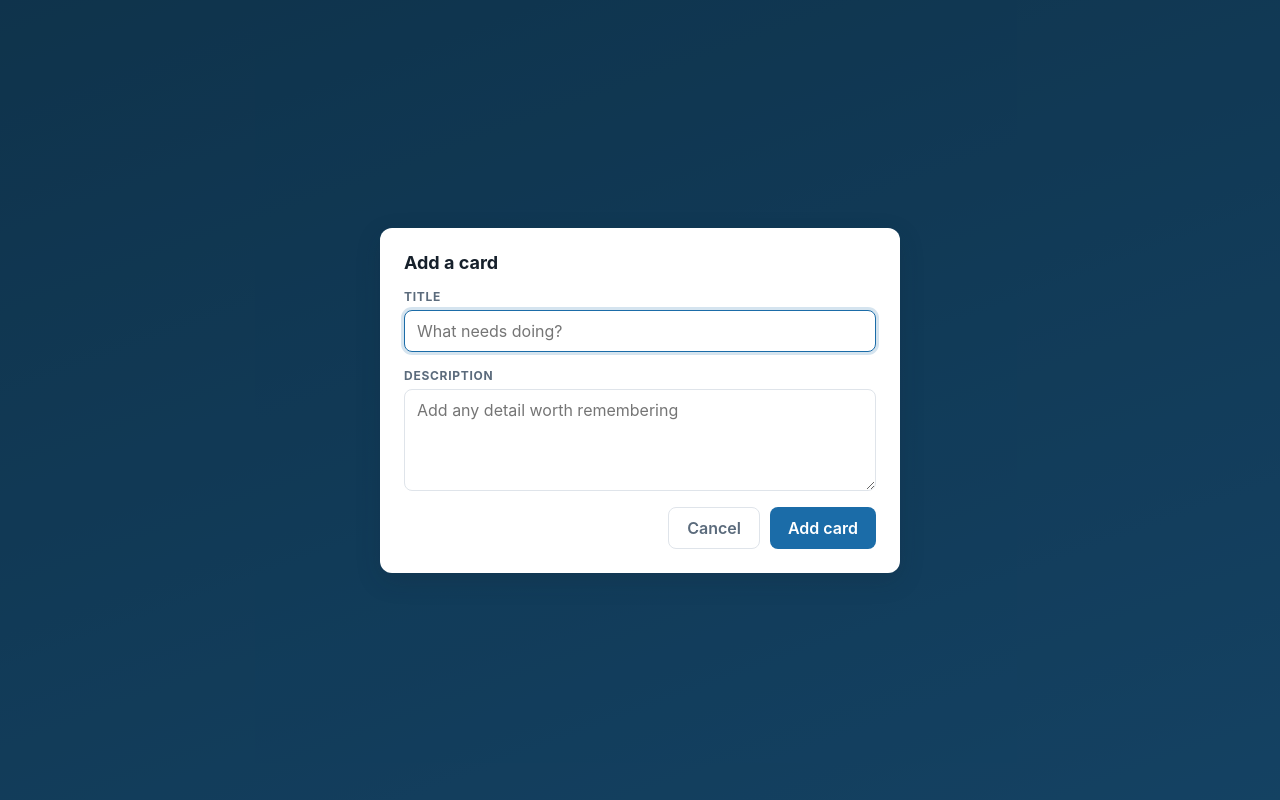
Scenario: TicketFormModal › refuses to submit without a title
What coordinates should you click on to do the following:
click the button "Add card"
I would click on:
 (823, 528)
Its box is [770,506,876,548].
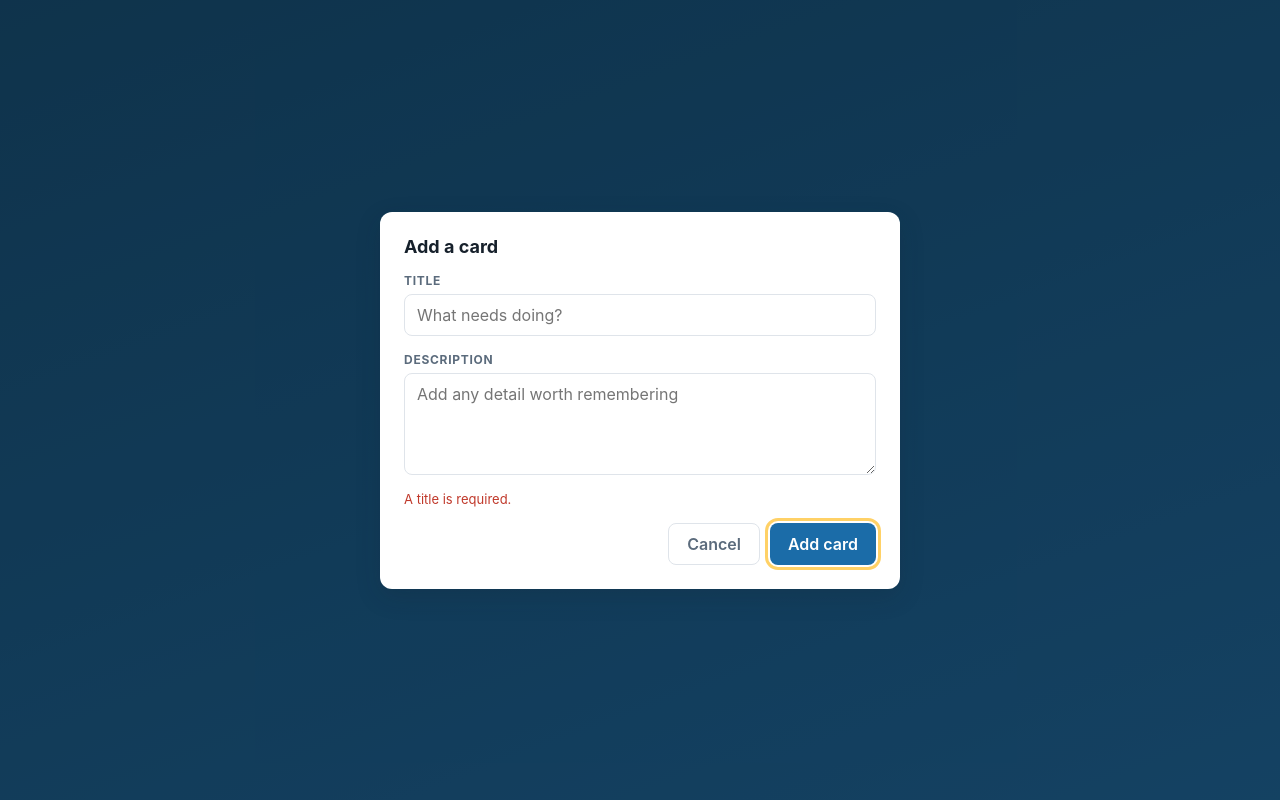
Expected: the message reads "A title is required.", [404,490,511,506]
